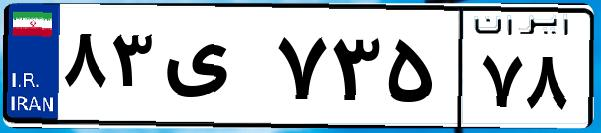3: (330, 28, 385, 110), (110, 28, 158, 98)
5: (385, 28, 445, 110)
7: (270, 28, 330, 110), (475, 38, 525, 113)
8: (57, 26, 110, 100), (525, 38, 570, 115)
ی: (158, 20, 270, 120)
